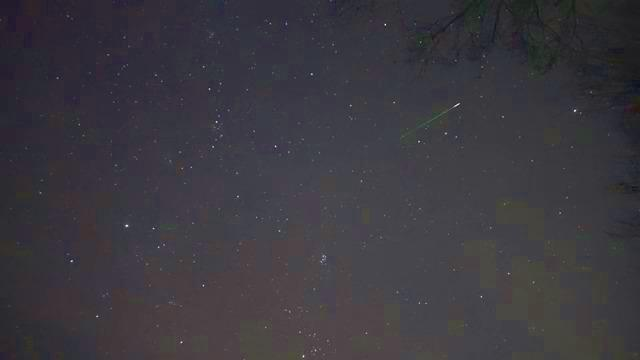meteorite: (390, 99, 474, 138)
